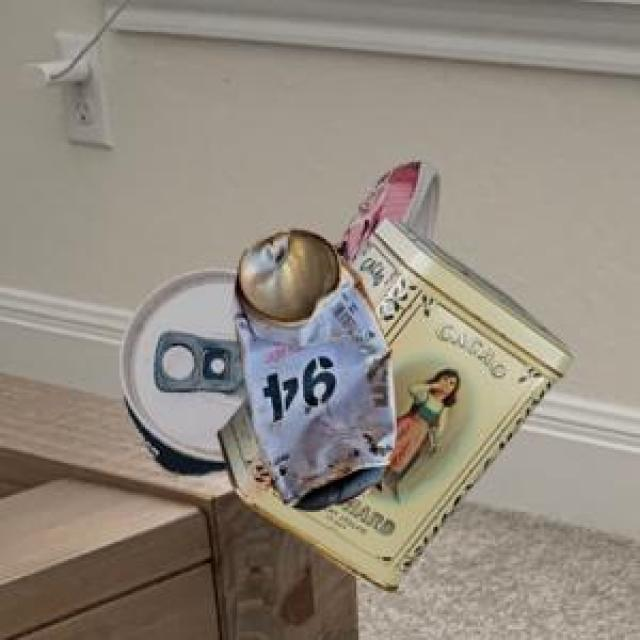Can: (214, 214, 569, 588), (116, 159, 436, 473), (229, 227, 391, 507)
